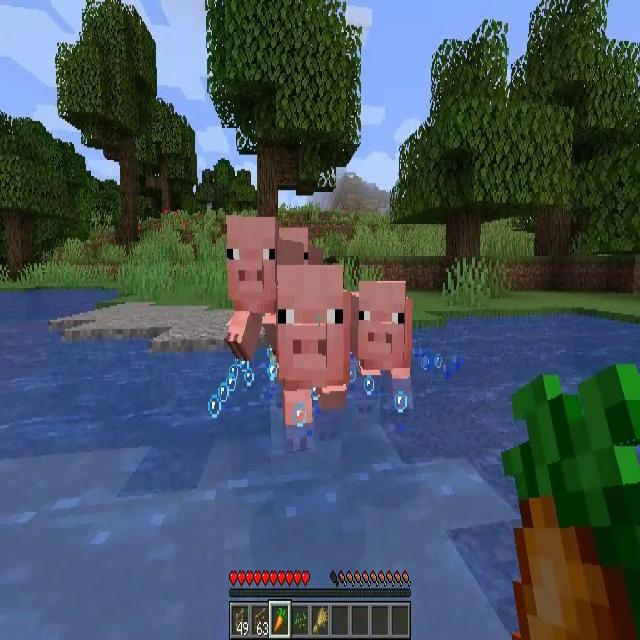pig: (276, 262, 350, 427), (347, 279, 415, 405), (228, 218, 279, 349)
